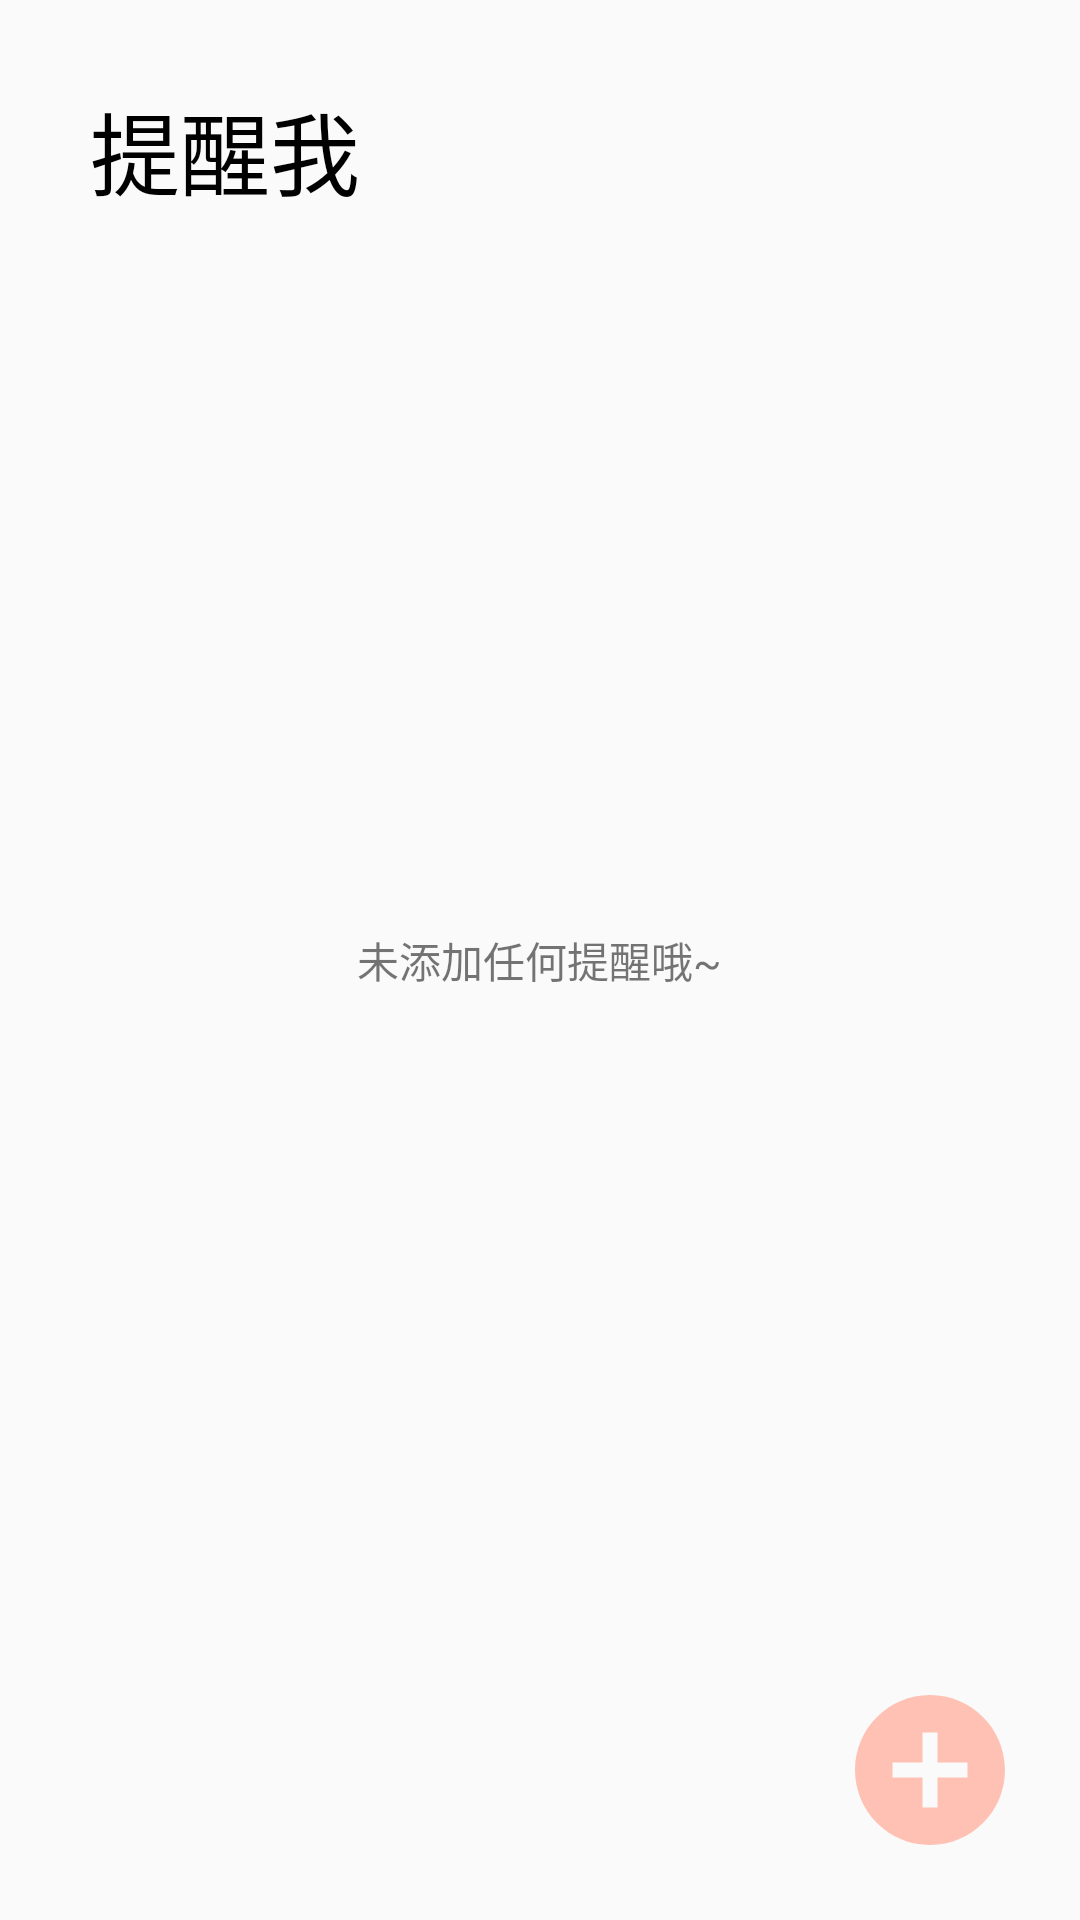

Icons on this 1080px x 1920px Android screen, each with its box as rect(x1, y1, x2, y2):
add circle: rect(855, 1695, 1005, 1845)
